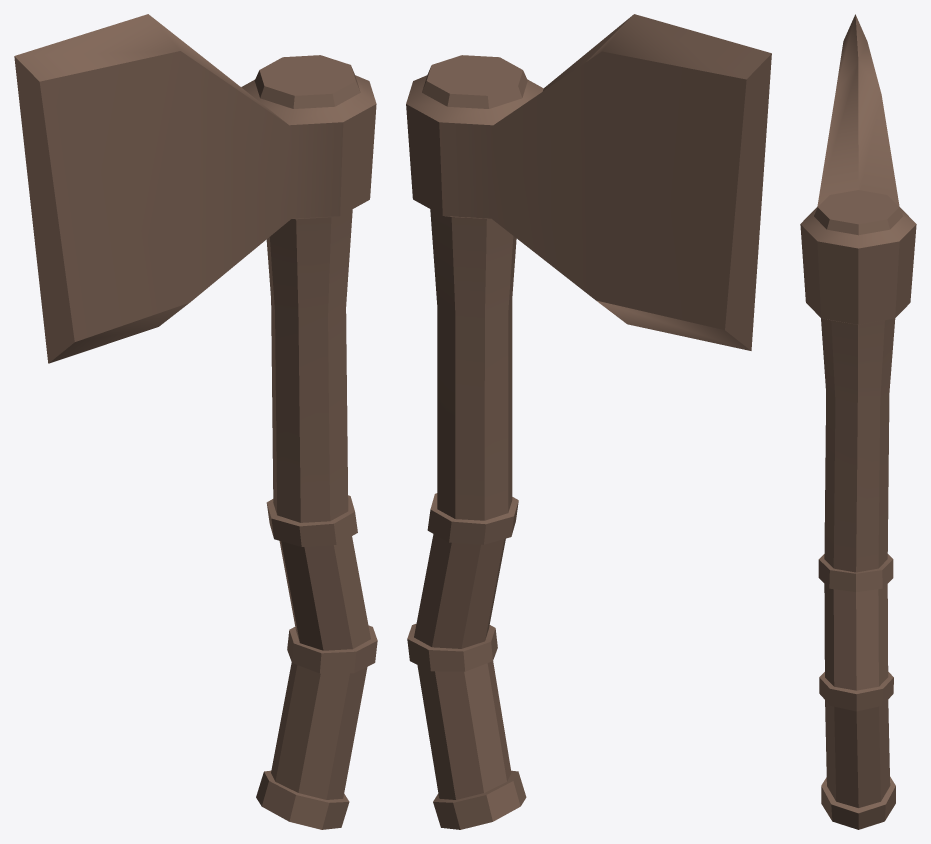
File: Axe.fbx
The picture shows the model from 3 angles, left to right: view 1: azimuth 30°, elevation 25°; view 2: azimuth 150°, elevation 25°; view 3: azimuth 270°, elevation 25°; orthographic projection. The views are drawn at different scales.
Parts seen in each view (by area): view 1: Axe; view 2: Axe; view 3: Axe.
Boxes of the visible parts, x1,y1,x2,y2 form: Axe: [14, 14, 377, 829]; Axe: [406, 14, 771, 829]; Axe: [800, 14, 916, 829].
Size of the model in its own units: 0.6188 by 1.4 by 0.2126.
